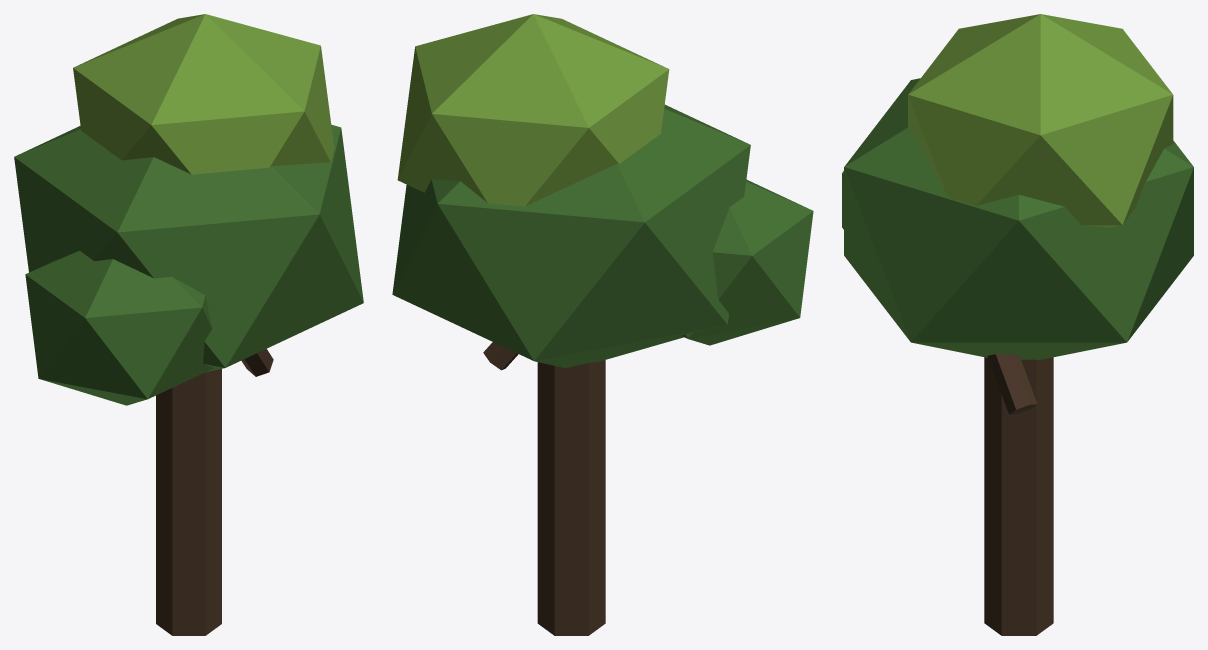
Rendered from tree_low.glb.
The picture shows the model from 3 angles, left to right: view 1: azimuth 30°, elevation 25°; view 2: azimuth 150°, elevation 25°; view 3: azimuth 270°, elevation 25°; orthographic projection. The views are drawn at different scales.
Visible parts, largest first — view 1: Canopy, Canopy crown, Canopy side, Trunk, Limb; view 2: Canopy, Canopy crown, Trunk, Canopy side; view 3: Canopy, Canopy crown, Trunk, Limb.
Part boxes in pixels (<box>): Canopy: <box>14,124,363,372</box>; Canopy crown: <box>73,14,334,174</box>; Canopy side: <box>25,250,213,405</box>; Trunk: <box>156,369,221,635</box>; Limb: <box>241,349,273,376</box>; Canopy: <box>392,104,750,368</box>; Canopy crown: <box>397,14,669,206</box>; Trunk: <box>537,360,605,635</box>; Canopy side: <box>681,179,813,345</box>; Canopy: <box>844,78,1193,360</box>; Canopy crown: <box>908,14,1173,227</box>; Trunk: <box>984,357,1053,635</box>; Limb: <box>987,354,1037,414</box>.
Bounding box in the file's own units: 1.89 × 3.18 × 1.63.
